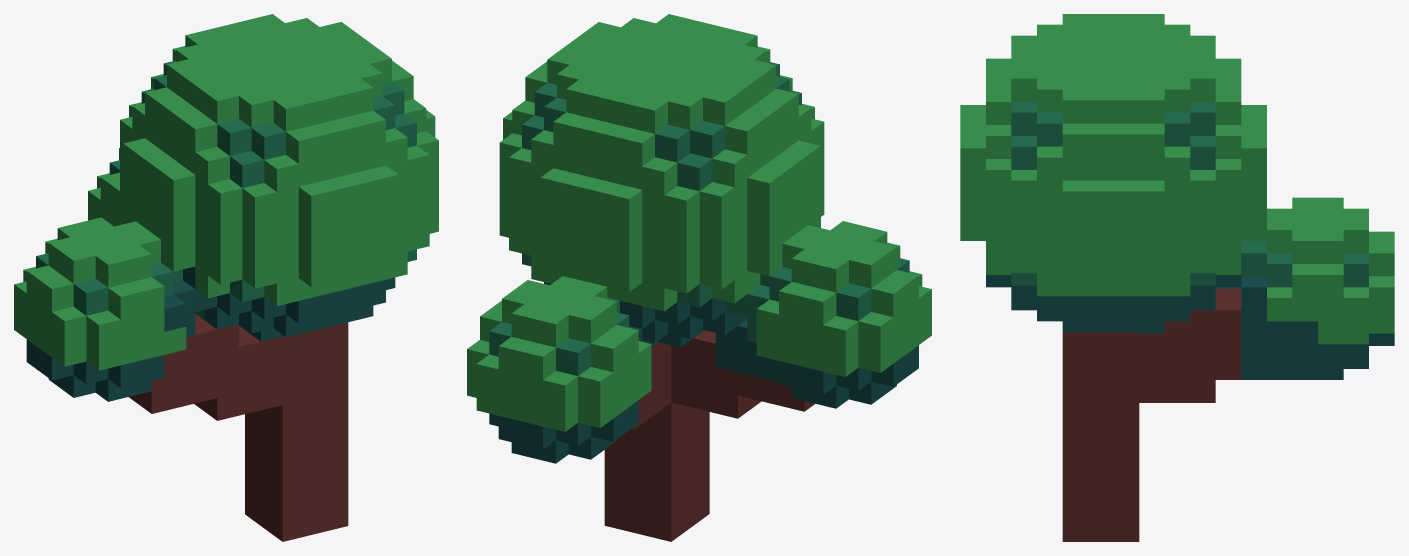
File: Buildings Final For Import-10.obj
The picture shows the model from 3 angles, left to right: view 1: azimuth 30°, elevation 25°; view 2: azimuth 150°, elevation 25°; view 3: azimuth 270°, elevation 25°; orthographic projection.
Size of the model in its own units: 1.7 by 2 by 1.7.
1 material, 1 textured.
